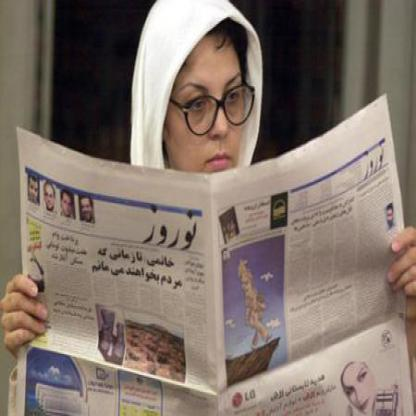face: (164, 3, 251, 203), (81, 196, 93, 225), (64, 192, 76, 219), (46, 184, 57, 211), (30, 178, 40, 206), (1, 1, 3, 3)
